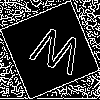W: (25, 25, 86, 85)
